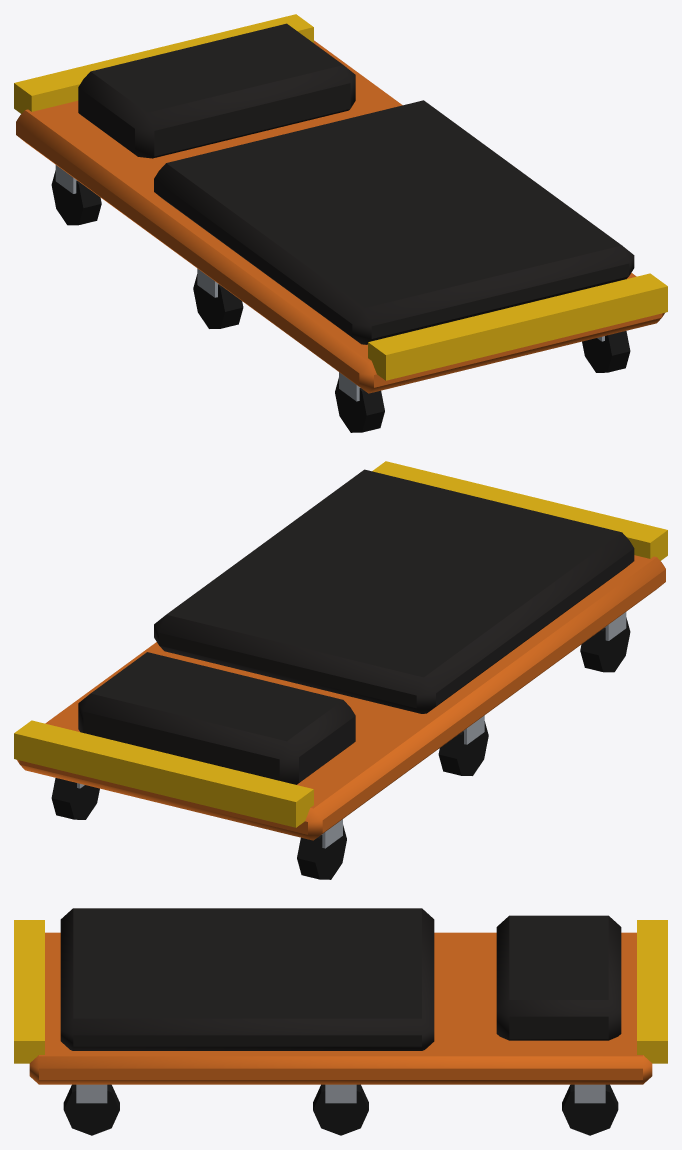
File: engtool_creeper_board.glb
3 views of the same model, one above another, from view 1: azimuth 30°, elevation 25°; view 2: azimuth 150°, elevation 25°; view 3: azimuth 270°, elevation 25° (orthographic). The views are drawn at different scales.
Visible parts, largest first — view 1: engtool_creeper_board; view 2: engtool_creeper_board; view 3: engtool_creeper_board.
Part boxes in pixels (x1,y1,x2,y2): engtool_creeper_board: (14,14,667,432); engtool_creeper_board: (14,461,667,879); engtool_creeper_board: (14,908,667,1135).
Bounding box in the file's own units: 0.5 × 0.215 × 1.05.
